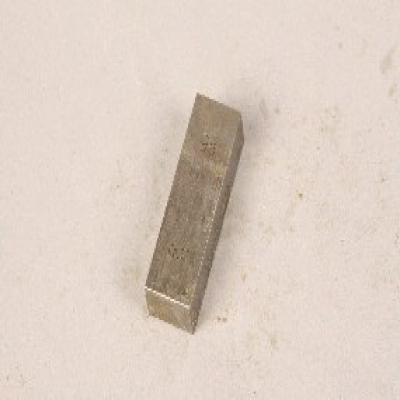technique: (145, 95, 246, 335)
